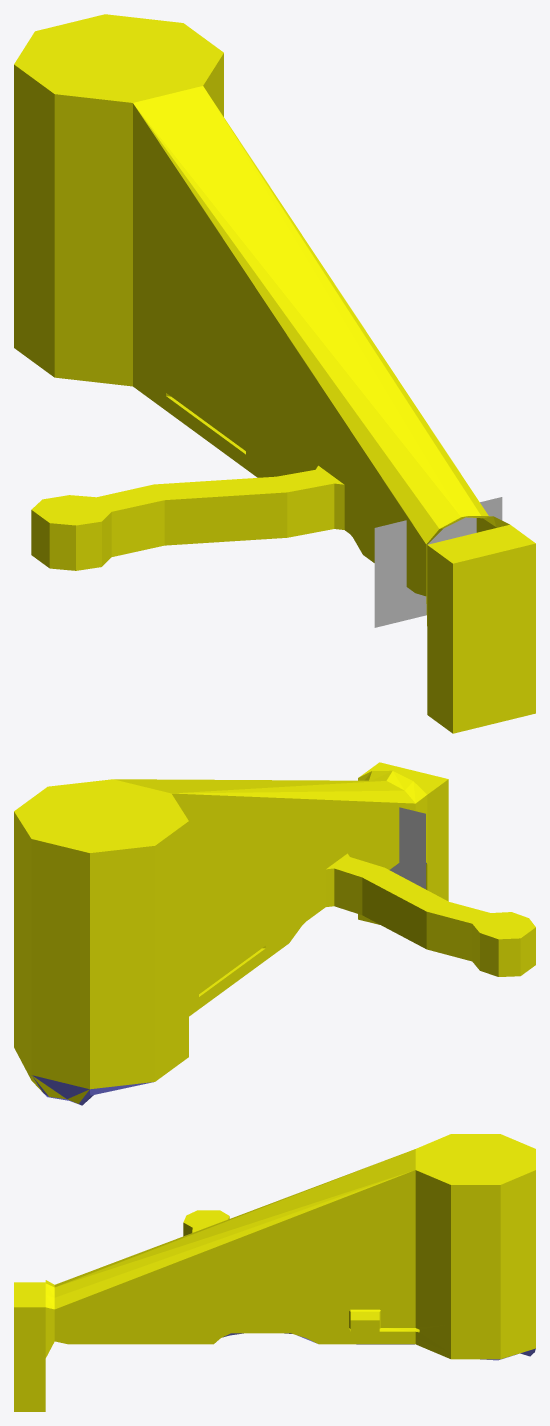
Rendered from metal_cap_segment7.0x0A508.collision.obj.
3 views of the same model, one above another, from view 1: azimuth 30°, elevation 25°; view 2: azimuth 150°, elevation 25°; view 3: azimuth 270°, elevation 25° (orthographic). The views are drawn at different scales.
Parts seen in each view (by area): view 1: metal_cap_segment7_0A508_normal, metal_cap_segment7_0A508_72; view 2: metal_cap_segment7_0A508_normal, metal_cap_segment7_0A508_72, metal_cap_segment7_0A508_water_currents; view 3: metal_cap_segment7_0A508_normal.
Part boxes in pixels (x1,y1,x2,y2): metal_cap_segment7_0A508_normal: (14, 14, 535, 733); metal_cap_segment7_0A508_72: (374, 497, 502, 627); metal_cap_segment7_0A508_normal: (14, 762, 535, 1103); metal_cap_segment7_0A508_72: (389, 807, 425, 889); metal_cap_segment7_0A508_water_currents: (31, 863, 426, 1105); metal_cap_segment7_0A508_normal: (14, 1134, 535, 1411).
Bounding box in the file's own units: 5.96 × 5.85 × 11.53.
